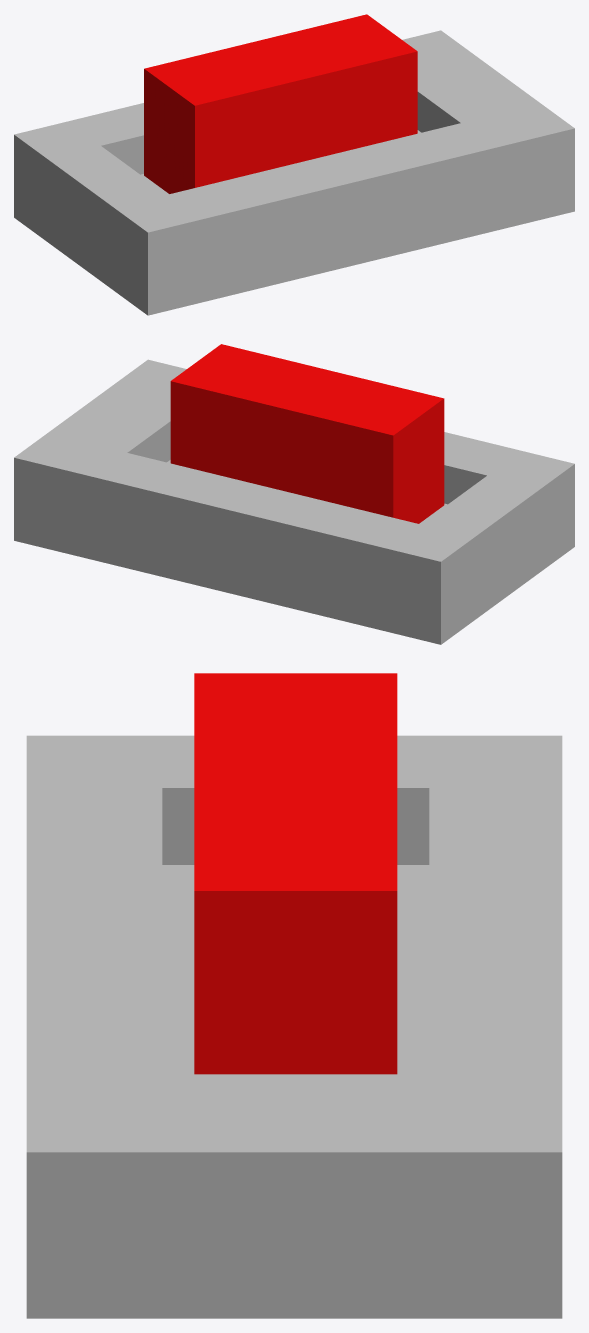
The model's file is button01.dae.
3 renders of one model, top to bottom at view 1: azimuth 30°, elevation 25°; view 2: azimuth 150°, elevation 25°; view 3: azimuth 270°, elevation 25°, orthographic. The views are drawn at different scales.
Parts seen in each view (by area): view 1: Component_6 (×2), Component_7; view 2: Component_6 (×2), Component_7; view 3: Component_6 (×2), Component_7.
Boxes of the visible parts, x1=… form: Component_6 (×2): x1=14, y1=30, x2=574, y2=315; Component_7: x1=144, y1=14, x2=417, y2=193; Component_6 (×2): x1=14, y1=359, x2=574, y2=644; Component_7: x1=170, y1=344, x2=444, y2=523; Component_6 (×2): x1=26, y1=735, x2=562, y2=1318; Component_7: x1=194, y1=673, x2=397, y2=1074.
Bounding box in the file's own units: 258 × 140 × 90.88.
